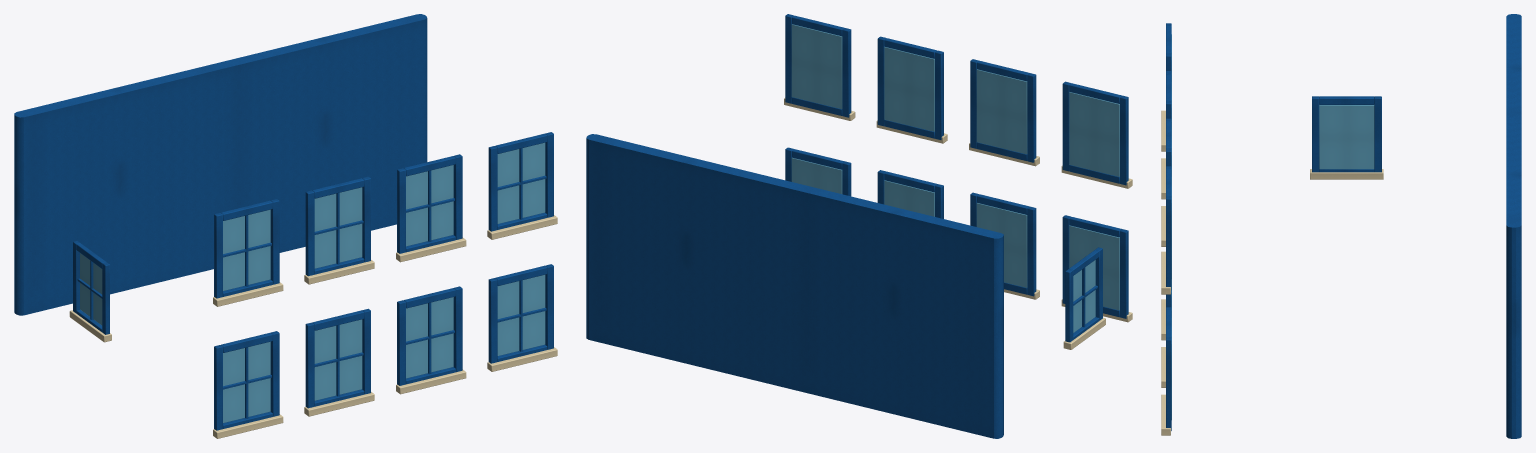
File: 9-standing-binder-band-3-3.fbx
3 renders of one model, left to right at view 1: azimuth 30°, elevation 25°; view 2: azimuth 150°, elevation 25°; view 3: azimuth 270°, elevation 25°, orthographic. The views are drawn at different scales.
Parts seen in each view (by area): view 1: standing-binder-band-3-3; view 2: standing-binder-band-3-3; view 3: standing-binder-band-3-3.
Boxes of the visible parts, x1=… form: standing-binder-band-3-3: x1=14, y1=14, x2=557, y2=438; standing-binder-band-3-3: x1=586, y1=14, x2=1132, y2=438; standing-binder-band-3-3: x1=1161, y1=14, x2=1521, y2=438.
Bounding box in the file's own units: 13225 × 6700 × 9275.
1 material, 1 textured.
